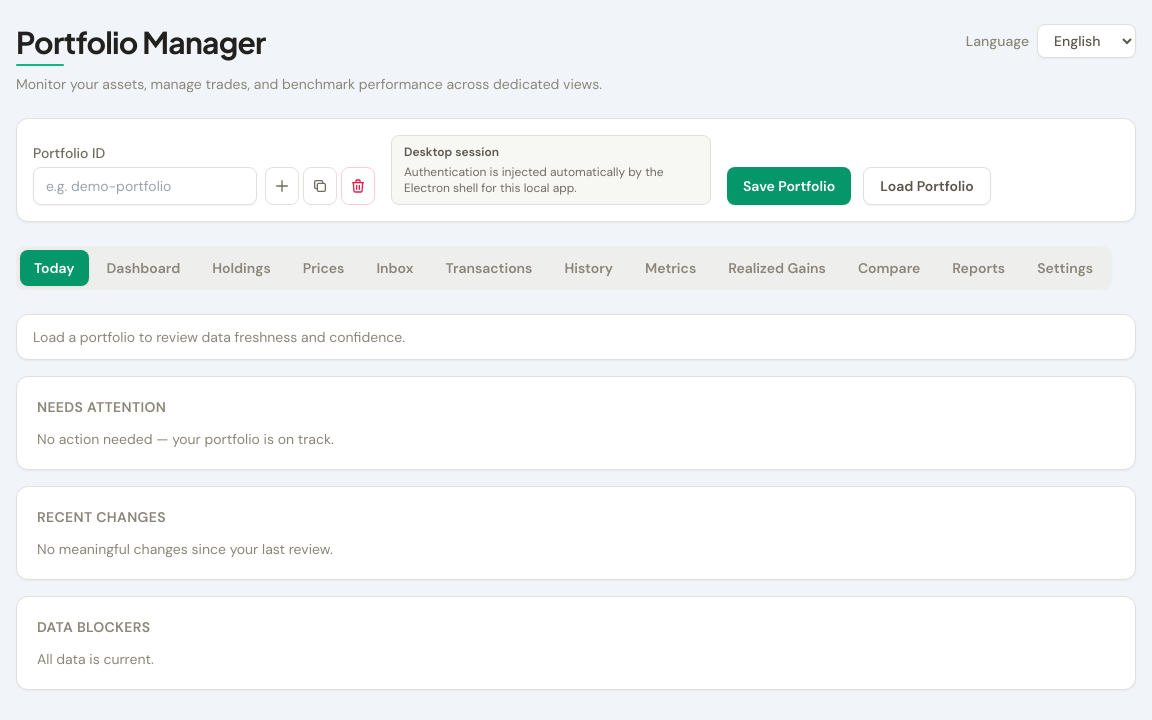
PortfolioManagerApp shell › clicking Holdings tab shows Holdings panel
Step 1. Click the tab "Holdings" → x=242, y=268, box [198,250,285,286]
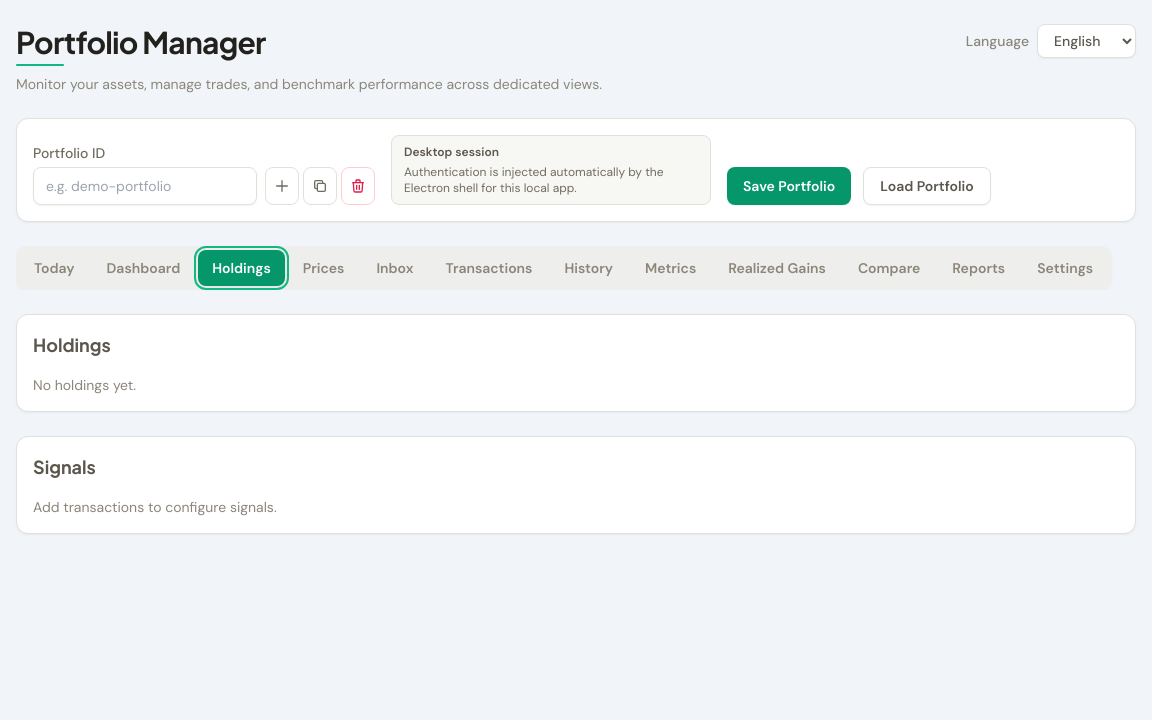
Expected: the panel with test id "panel-holdings" is shown, [16,314,1136,534]
